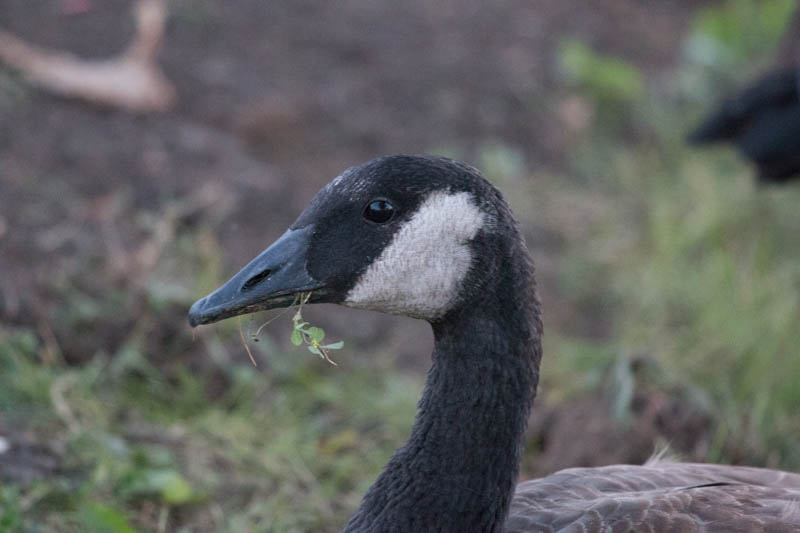goose-head: (187, 152, 534, 327)
